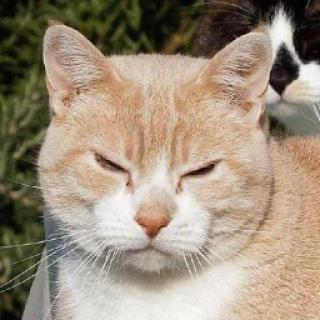cat: (39, 22, 277, 280)
nose: (129, 194, 177, 248)
